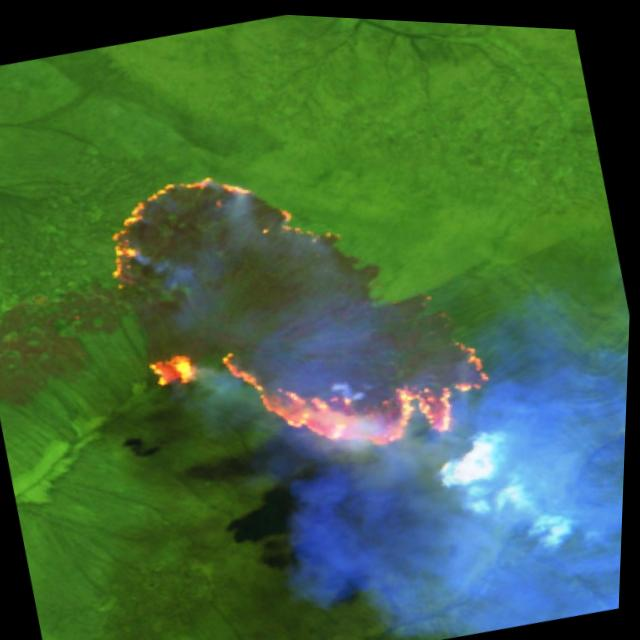fire: (80, 111, 518, 506)
